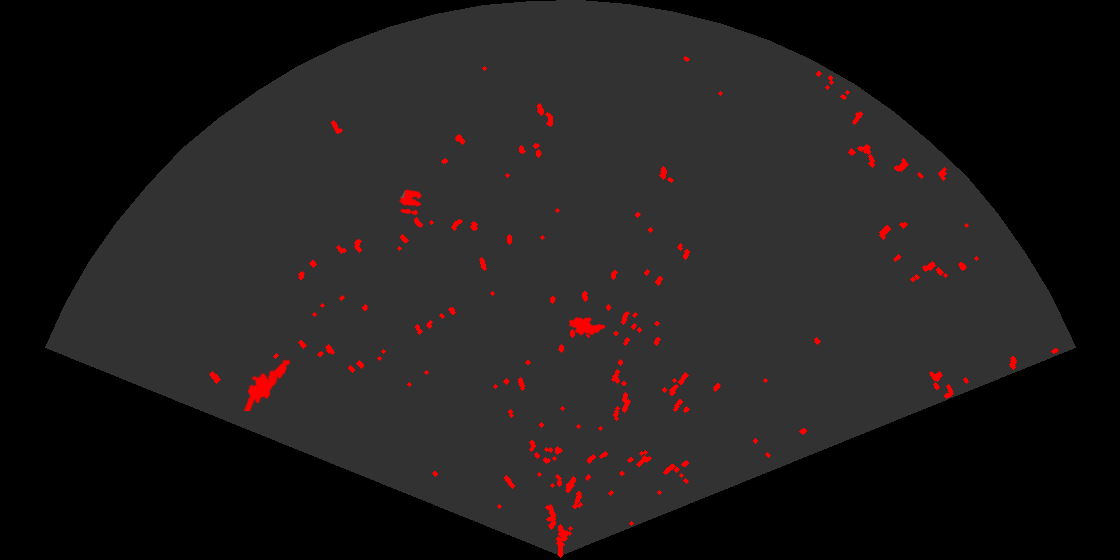AUV: (567, 315, 607, 336)
ball: (397, 188, 424, 217)
frogman: (242, 346, 294, 411)
